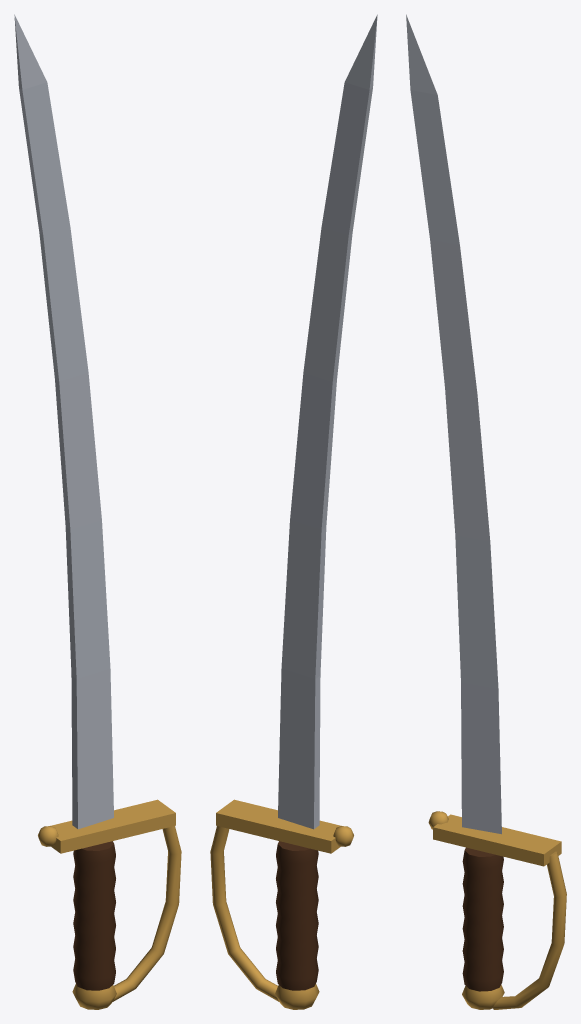
File: saber.glb
3 renders of one model, left to right at view 1: azimuth 30°, elevation 25°; view 2: azimuth 150°, elevation 25°; view 3: azimuth 330°, elevation 25°, orthographic. The views are drawn at different scales.
Parts seen in each view (by area): view 1: Saber_Blade, Saber_Hilt, Saber_Grip, Saber_Pommel; view 2: Saber_Blade, Saber_Hilt, Saber_Grip, Saber_Pommel; view 3: Saber_Blade, Saber_Hilt, Saber_Grip, Saber_Pommel.
Boxes of the visible parts, x1,y1,x2,y2 form: Saber_Blade: (14, 14, 113, 829); Saber_Hilt: (38, 799, 181, 1001); Saber_Grip: (73, 841, 115, 990); Saber_Pommel: (72, 984, 116, 1009); Saber_Blade: (278, 14, 377, 829); Saber_Hilt: (210, 799, 353, 1001); Saber_Grip: (276, 841, 318, 990); Saber_Pommel: (275, 984, 319, 1009); Saber_Blade: (406, 14, 501, 834); Saber_Hilt: (428, 811, 566, 1009); Saber_Grip: (462, 847, 503, 991); Saber_Pommel: (462, 984, 504, 1009).
Size of the model in its own units: 0.1371 by 0.798 by 0.0304.
